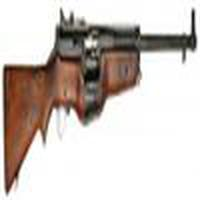gun: (2, 26, 197, 149)
